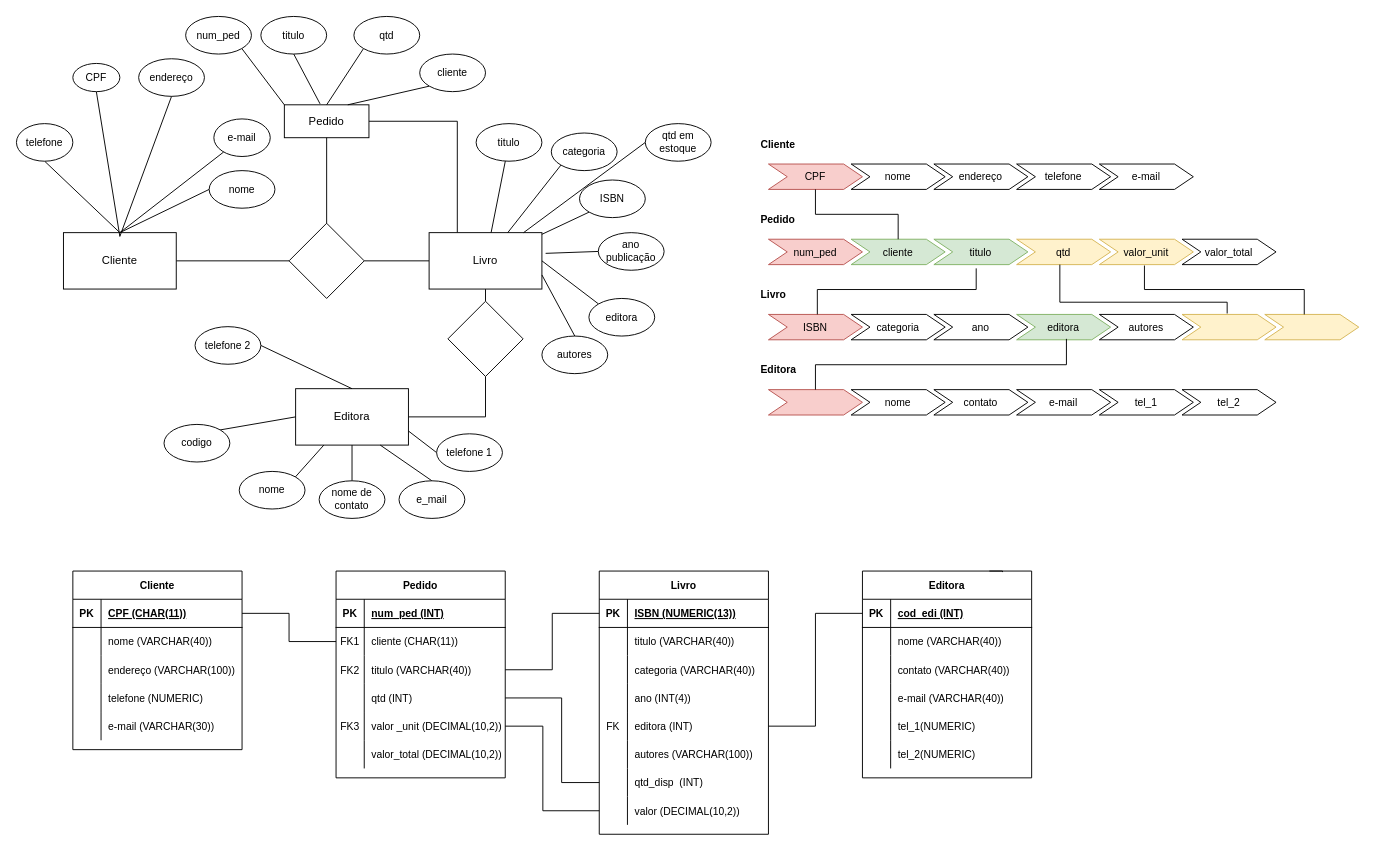
This 1385x851 diagram has some shape labels left out. Here are the shapes that lost their labels. From the top down, the centre of each, then its label:
At point 326,260: "Compra".
At point 485,338: "Publica".
At point 1228,326: "qtd_disp".
At point 1311,326: "valor".
At point 815,402: "cod_edi".
